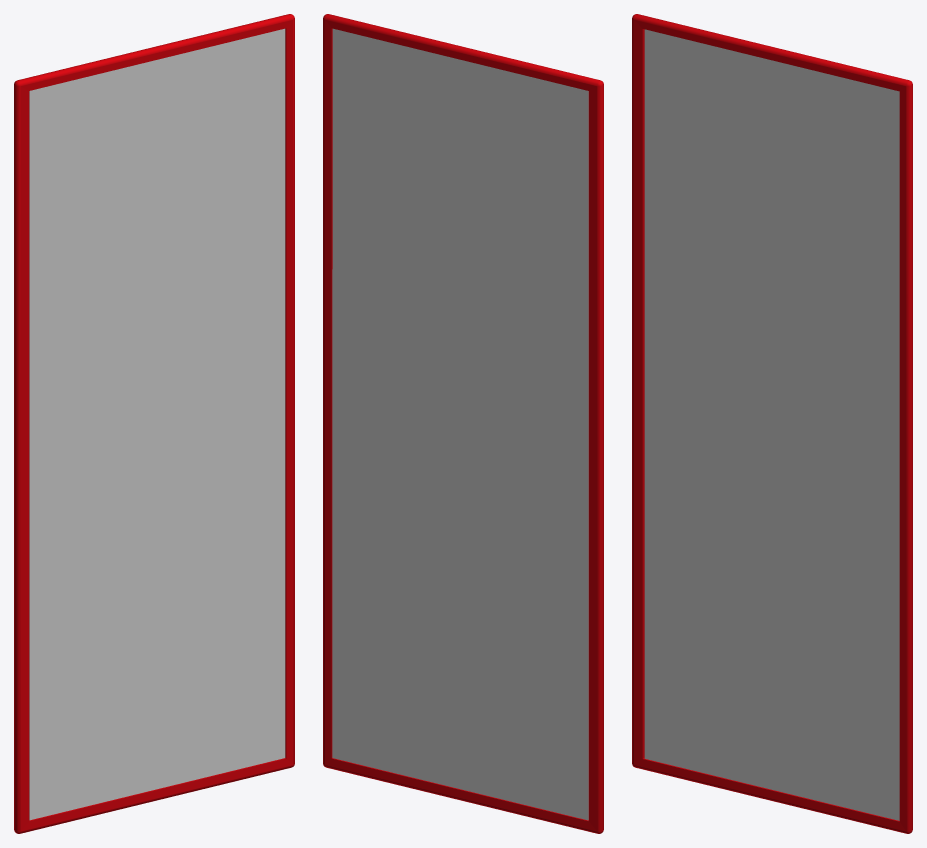
File: Wall_2_2_frame.fbx
The picture shows the model from 3 angles, left to right: view 1: azimuth 30°, elevation 25°; view 2: azimuth 150°, elevation 25°; view 3: azimuth 330°, elevation 25°; orthographic projection.
Parts seen in each view (by area): view 1: Wall_2_2, Wall_2_2_frame; view 2: Wall_2_2, Wall_2_2_frame; view 3: Wall_2_2, Wall_2_2_frame.
Boxes of the visible parts, <box> form: Wall_2_2: <box>29,28,285,820</box>; Wall_2_2_frame: <box>14,14,294,833</box>; Wall_2_2: <box>332,28,588,820</box>; Wall_2_2_frame: <box>323,14,603,833</box>; Wall_2_2: <box>644,29,899,820</box>; Wall_2_2_frame: <box>632,14,912,833</box>.
Size of the model in its own units: 2.7 by 6.97 by 0.0785.
